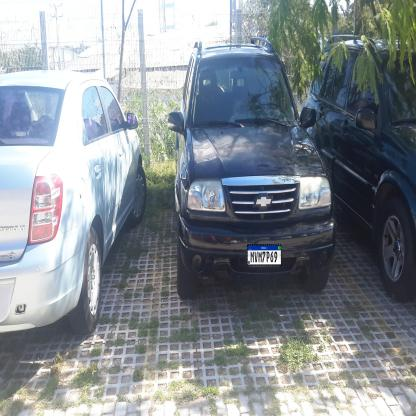PlacaM: (247, 244, 282, 266)
